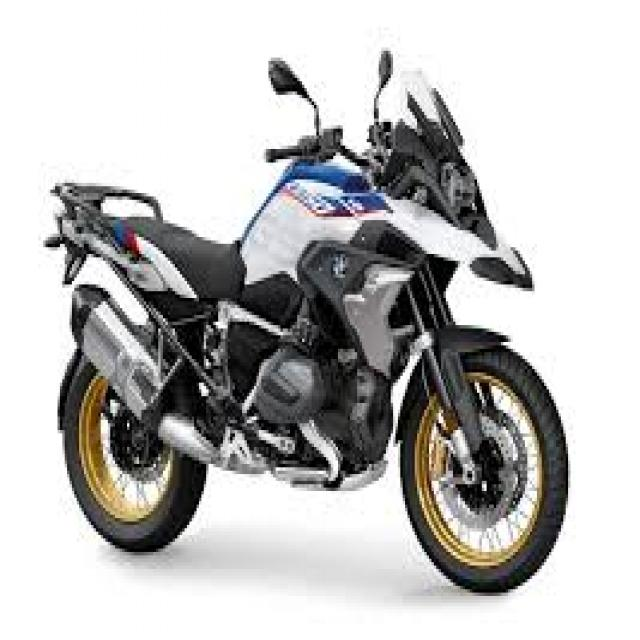Bike: (51, 93, 563, 597)
